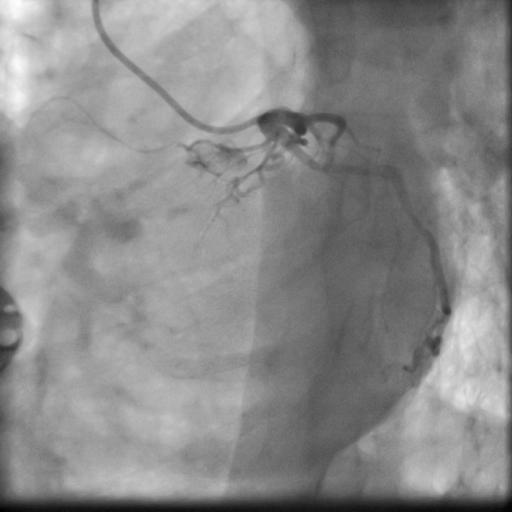Stenosis: (398, 197, 425, 232)
